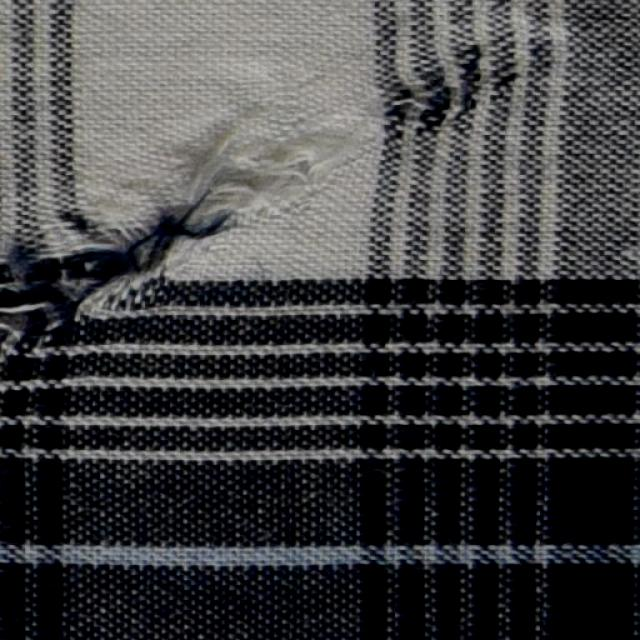Snag: (0, 132, 336, 362)
